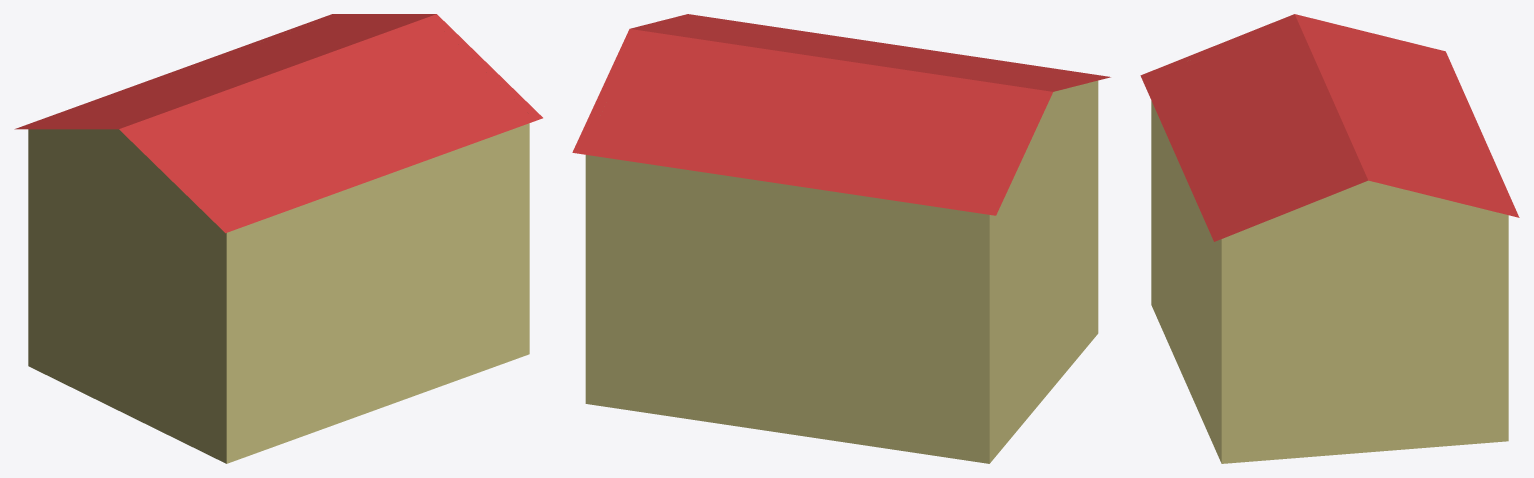
3 views of the same model, side by side, from view 1: azimuth 30°, elevation 25°; view 2: azimuth 150°, elevation 25°; view 3: azimuth 270°, elevation 25° (orthographic). The views are drawn at different scales.
Size of the model in its own units: 11.92 by 10.01 by 8.04.
